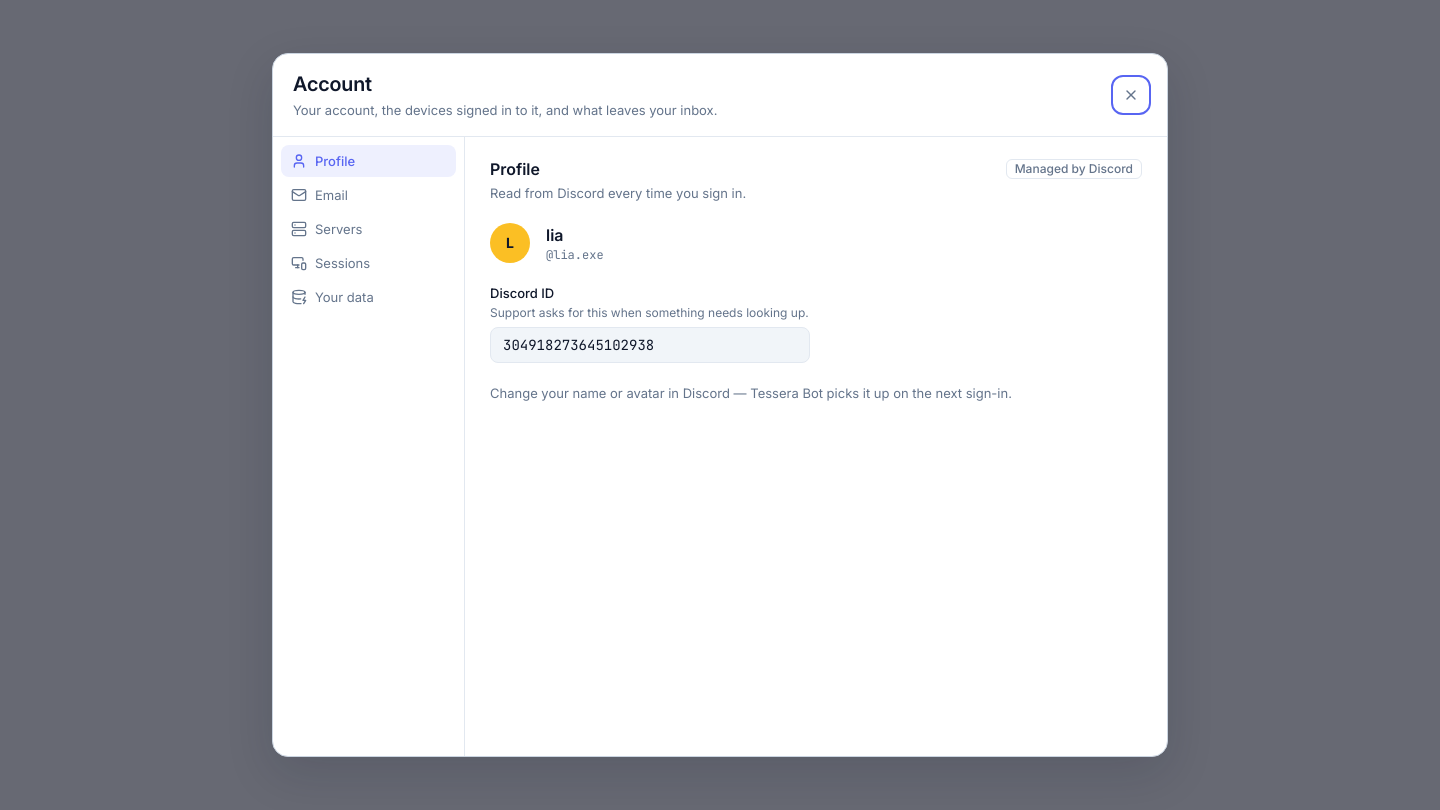
it: AccountPanel › sessions › drops a session from the list only after the API took it
Click the tab "Sessions".
click(368, 263)  # box [281,247,456,279]
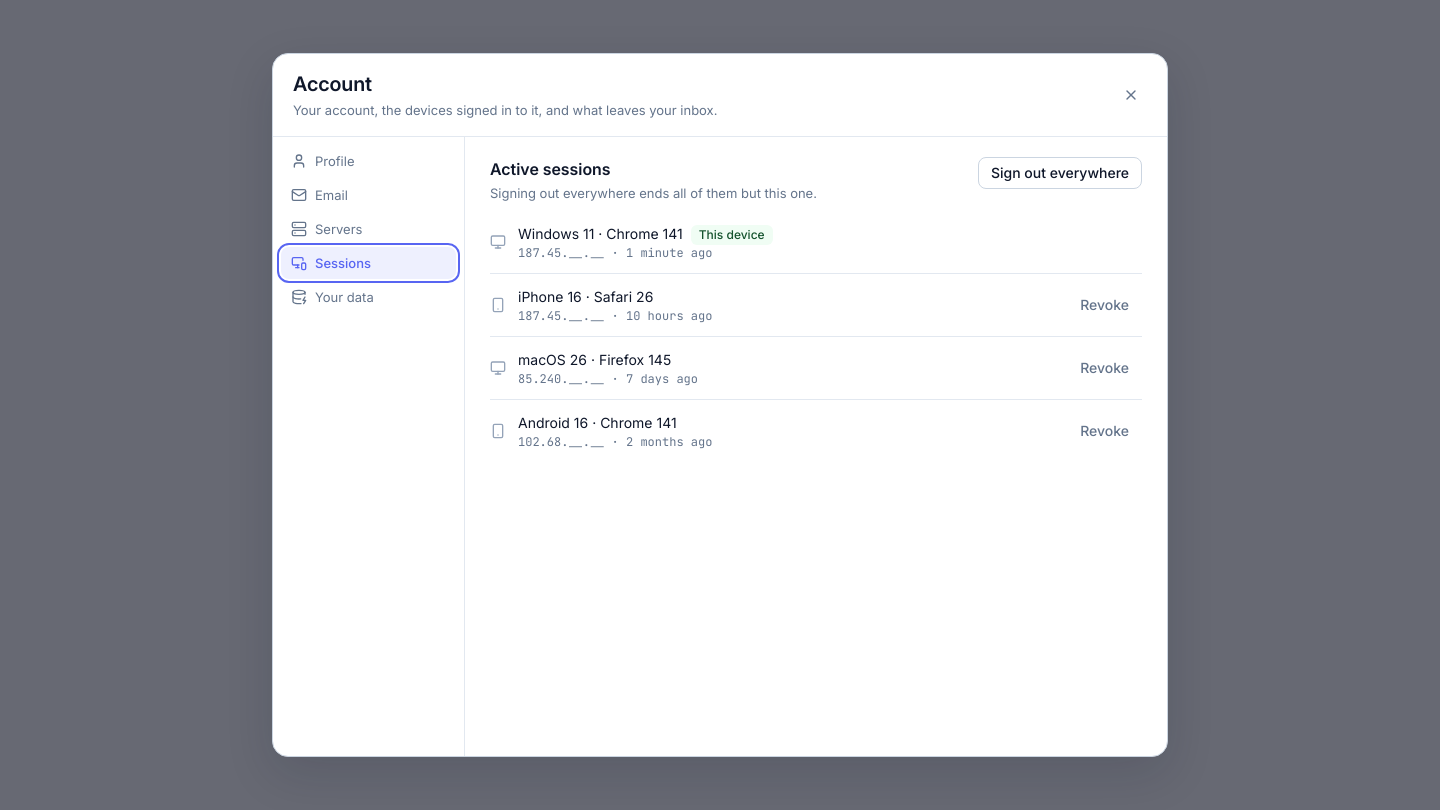
Click the button "Revoke" in the row of "iPhone 16".
click(1105, 305)  # box [1067,289,1142,321]
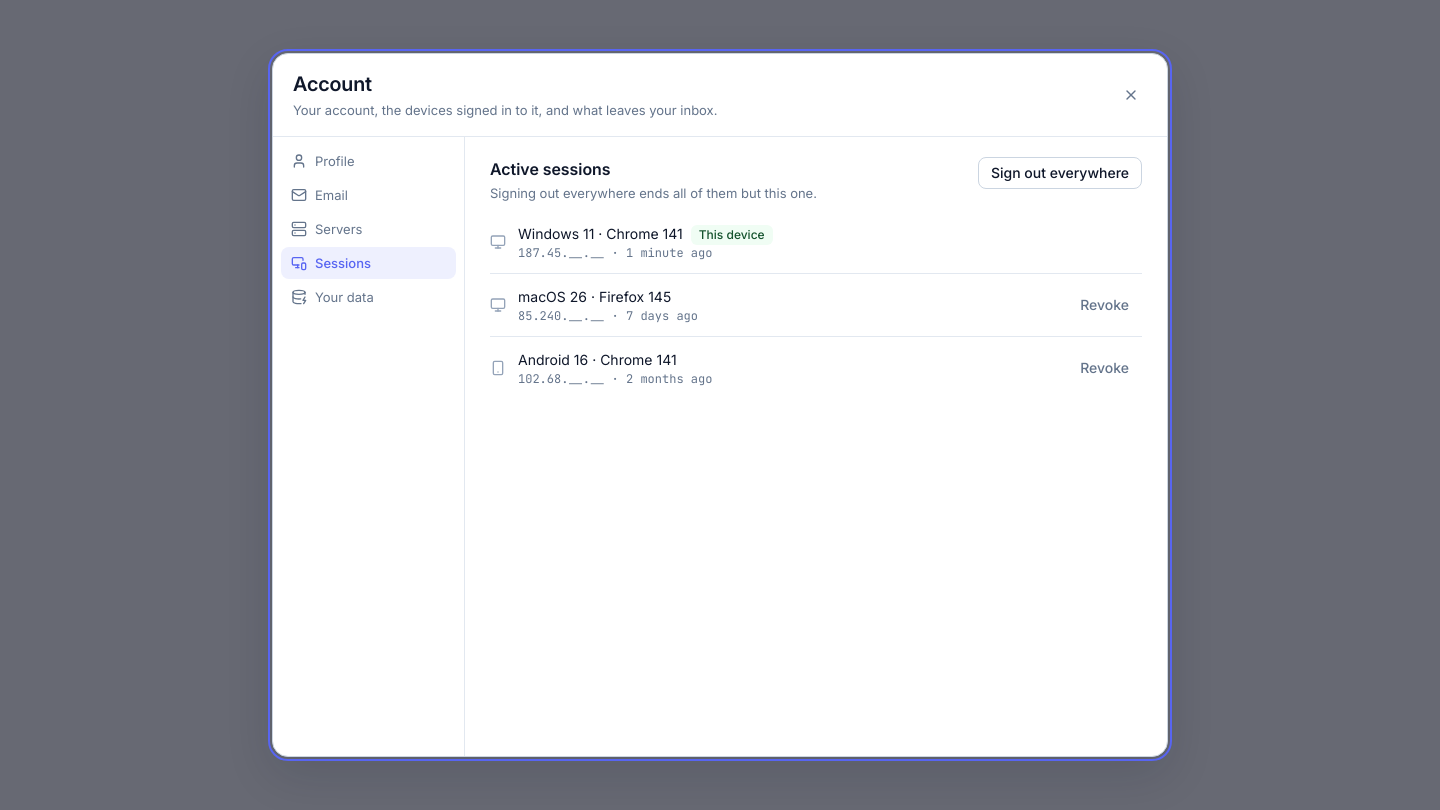
Result: the number of buttons "Revoke" is 2 at [1067,289,1142,321]; [1067,352,1142,384]
